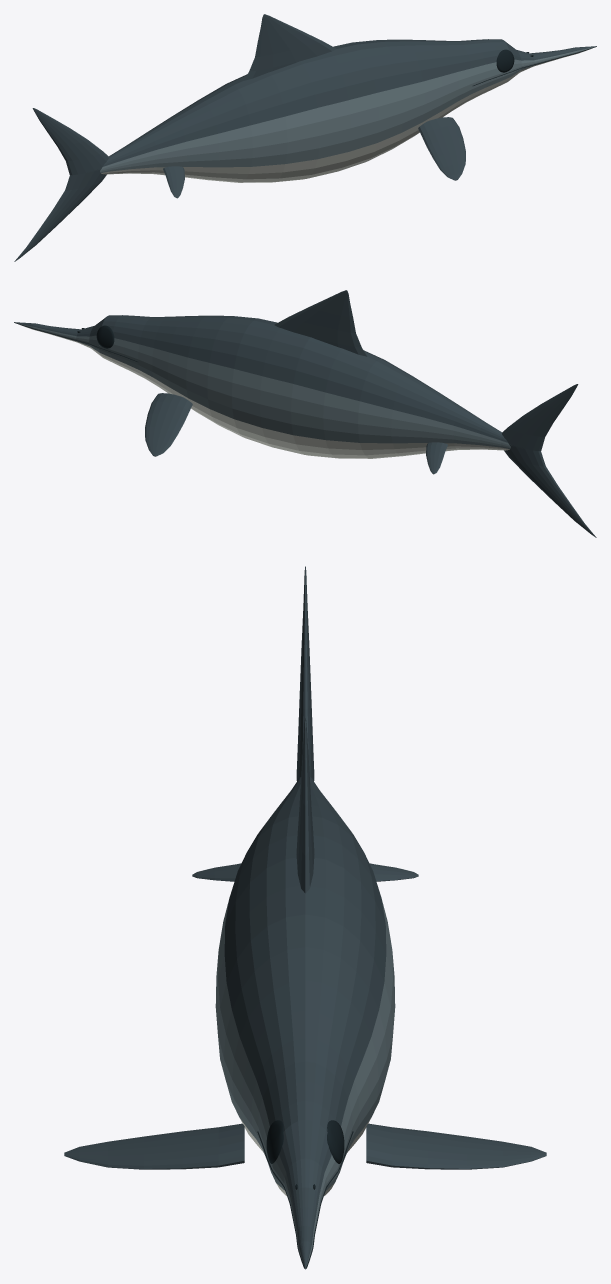
3 views of the same model, one above another, from view 1: azimuth 30°, elevation 25°; view 2: azimuth 150°, elevation 25°; view 3: azimuth 270°, elevation 25° (orthographic). The views are drawn at different scales.
Visible parts, largest first — view 1: Continuous_fusiform_body_and_matching_jaws, Vertical_lunate_caudal_fin, Single_inferred_swept_dorsal_fin, Broad_foreflipper_near, Reduced_hindflipper_near, Flesh_seated_eye_near; view 2: Continuous_fusiform_body_and_matching_jaws, Vertical_lunate_caudal_fin, Single_inferred_swept_dorsal_fin, Broad_foreflipper_far, Reduced_hindflipper_far, Flesh_seated_eye_far; view 3: Continuous_fusiform_body_and_matching_jaws, Broad_foreflipper_far, Broad_foreflipper_near, Single_inferred_swept_dorsal_fin, Vertical_lunate_caudal_fin.
Part boxes in pixels (<box>): Continuous_fusiform_body_and_matching_jaws: <box>100,39,596,182</box>; Vertical_lunate_caudal_fin: <box>14,108,108,261</box>; Single_inferred_swept_dorsal_fin: <box>244,14,336,80</box>; Broad_foreflipper_near: <box>418,117,465,180</box>; Reduced_hindflipper_near: <box>163,166,184,198</box>; Flesh_seated_eye_near: <box>496,49,514,72</box>; Continuous_fusiform_body_and_matching_jaws: <box>14,315,510,458</box>; Vertical_lunate_caudal_fin: <box>502,384,596,537</box>; Single_inferred_swept_dorsal_fin: <box>274,290,366,356</box>; Broad_foreflipper_far: <box>145,393,192,456</box>; Reduced_hindflipper_far: <box>426,442,447,474</box>; Flesh_seated_eye_far: <box>96,325,114,348</box>; Continuous_fusiform_body_and_matching_jaws: <box>215,777,395,1269</box>; Broad_foreflipper_far: <box>366,1123,546,1169</box>; Broad_foreflipper_near: <box>64,1123,244,1169</box>; Single_inferred_swept_dorsal_fin: <box>296,717,314,893</box>; Vertical_lunate_caudal_fin: <box>296,566,314,780</box>.
Size of the model in its own units: 4.5 by 1.38 by 1.61.
